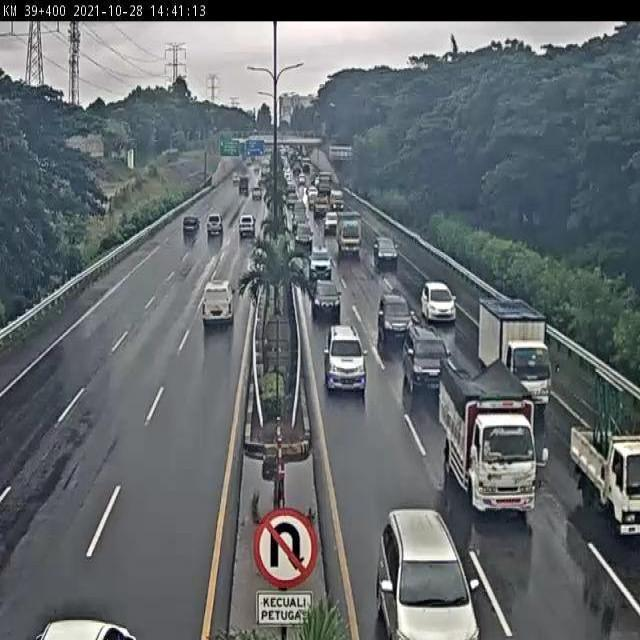car: (377, 508, 481, 640), (403, 328, 450, 397), (322, 317, 364, 383), (195, 291, 234, 345), (373, 289, 412, 336), (421, 283, 459, 327), (310, 273, 340, 315)
truck: (437, 361, 537, 519), (478, 299, 552, 413), (570, 423, 640, 532), (307, 244, 333, 277)
